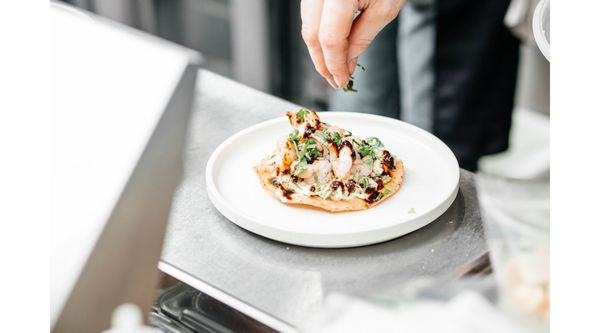pizza: (474, 171, 550, 325)
